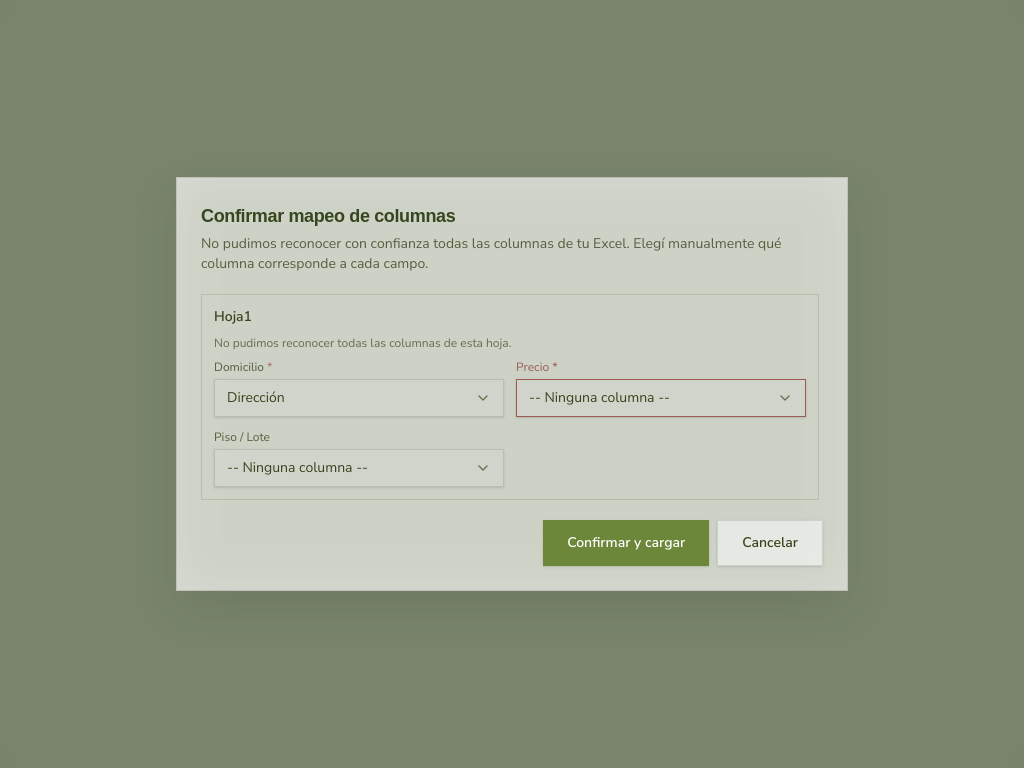
Test: MappingConfirmModal (KAN-217) › bloquea la confirmación si falta un campo requerido y muestra un error estandarizado
Expected: the text "Domicilio" is shown, [214,359,264,375]
Click the button "Confirmar y cargar".
click(626, 543)  # box [543,520,709,566]
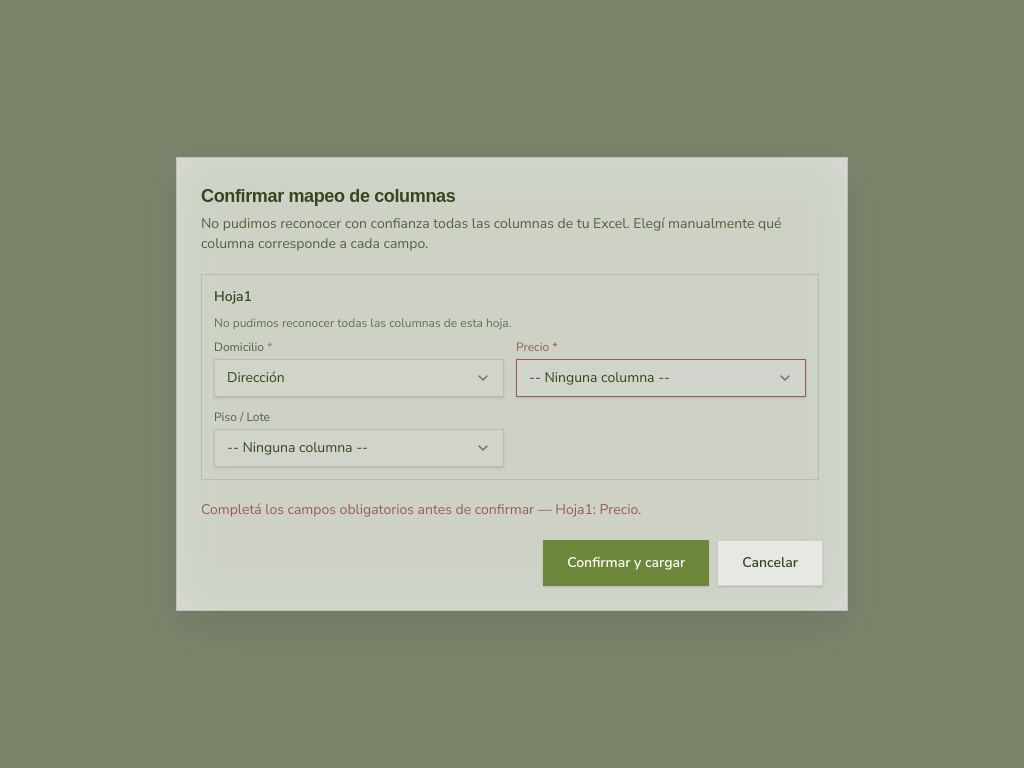
Expected: the text "Completá los campos obligatorios antes de confirmar" is shown, [201,500,641,519]
